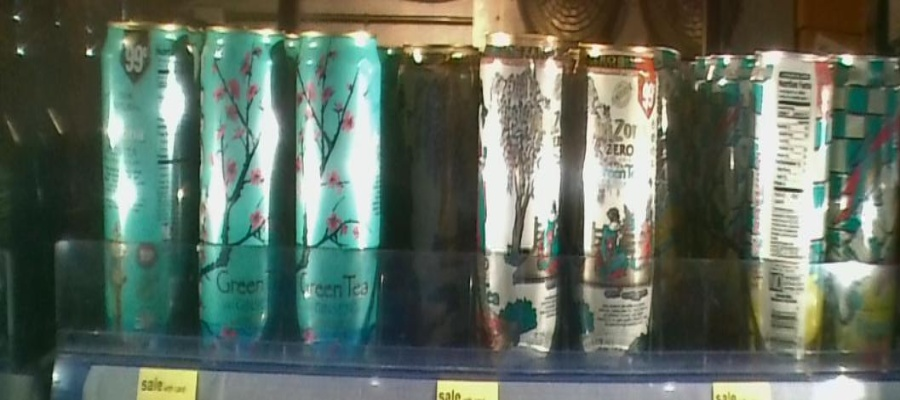bottle: (101, 14, 198, 338), (296, 16, 386, 355), (200, 24, 291, 346), (576, 35, 663, 344), (478, 31, 561, 340), (753, 45, 835, 354), (392, 31, 470, 273), (838, 45, 897, 344)
